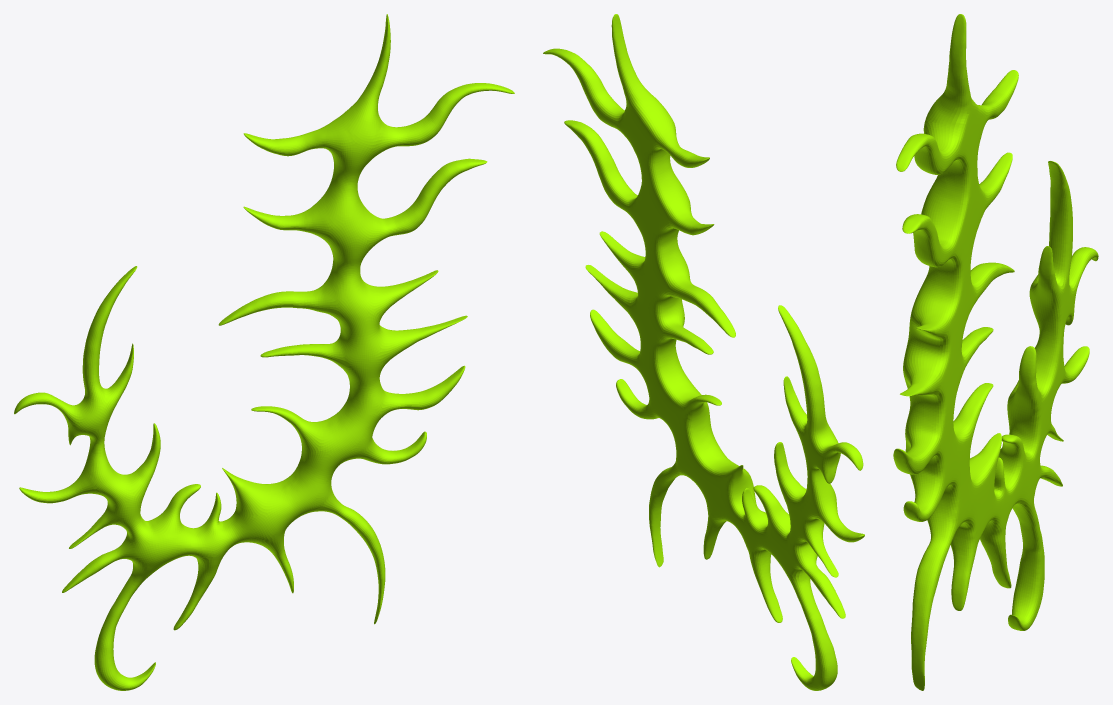
Rendered from neonwugong.fbx.
The picture shows the model from 3 angles, left to right: view 1: azimuth 30°, elevation 25°; view 2: azimuth 150°, elevation 25°; view 3: azimuth 270°, elevation 25°; orthographic projection. The views are drawn at different scales.
Parts seen in each view (by area): view 1: wugonglow:Group24377; view 2: wugonglow:Group24377; view 3: wugonglow:Group24377.
Boxes of the visible parts, left/top/right/bottom form: wugonglow:Group24377: left=14, top=14, right=514, bottom=690; wugonglow:Group24377: left=543, top=14, right=864, bottom=690; wugonglow:Group24377: left=893, top=14, right=1098, bottom=690.
Bounding box in the file's own units: 328 × 478 × 119.
